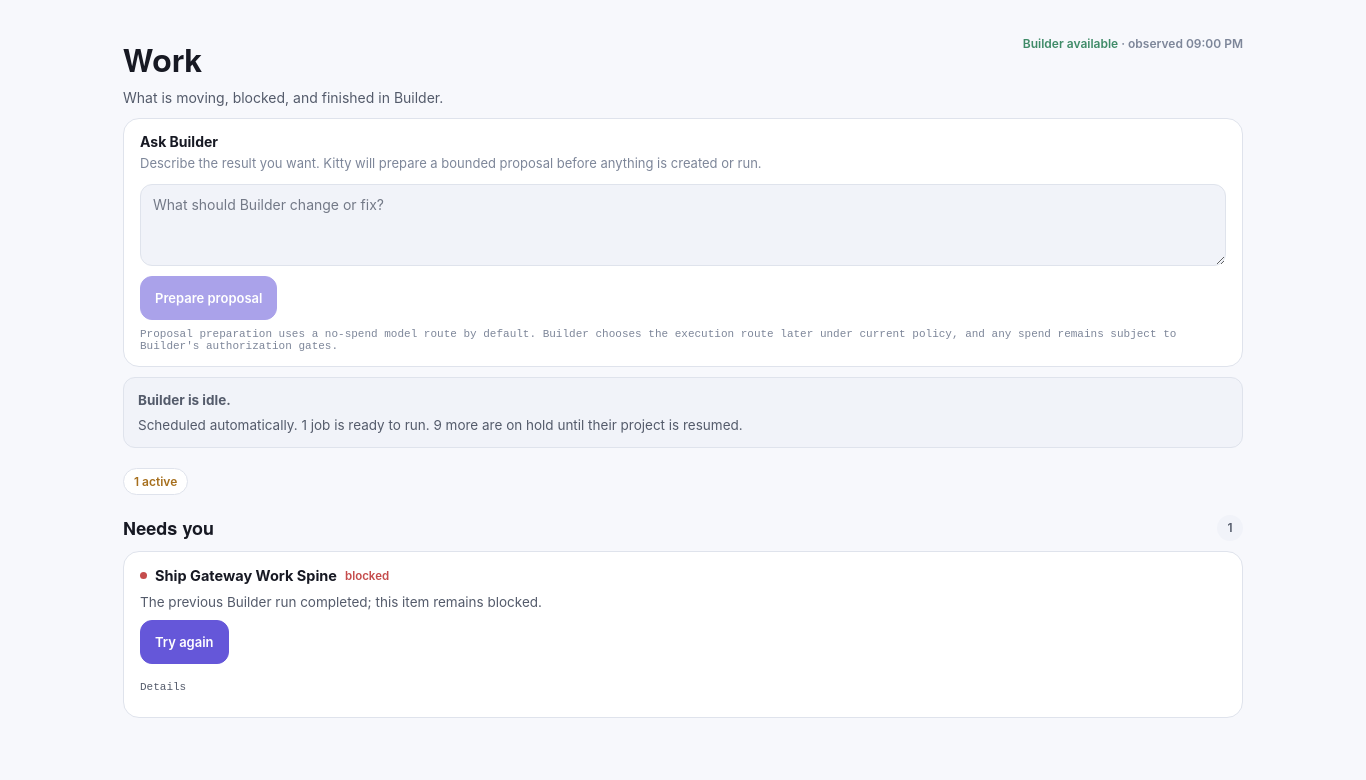
Test: WorkView projection › translates machine reasons in the primary row and keeps the raw value in Details
expect the text "shadow_run_complete" is not shown: met
expect the text "The previous Builder run completed; this item remains blocked." is shown: met, box [140, 594, 542, 610]
What coordinates should you click on to do the following:
click the heading "Details"
I would click on:
 (163, 687)
Its box is [140, 681, 186, 693].
(page scrolled)
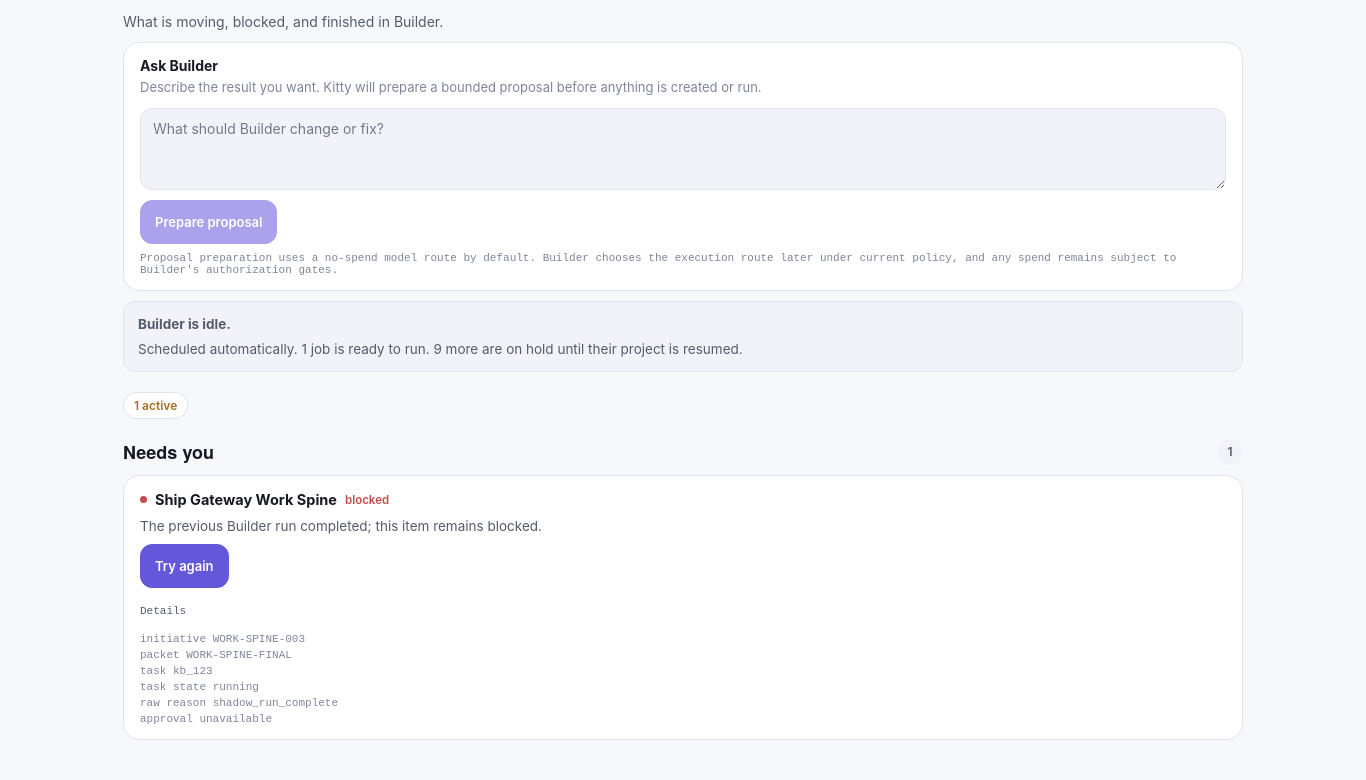
expect the text "shadow_run_complete" is shown: met, box [213, 697, 338, 709]
